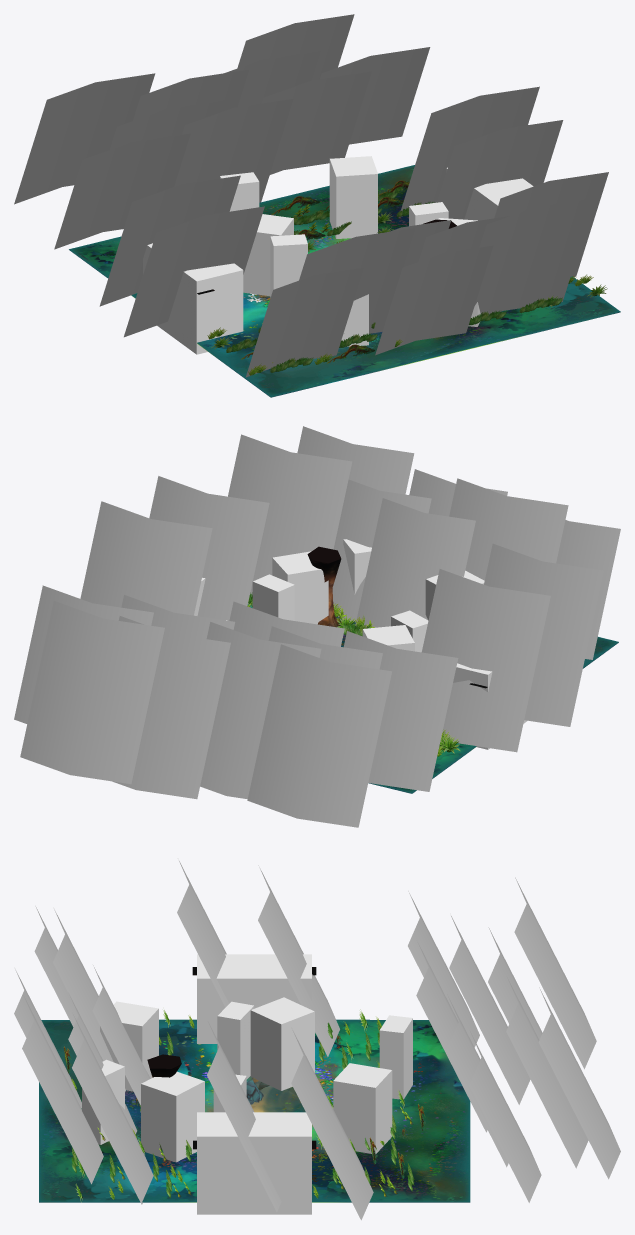
The model's file is FieldDungeon_02_001_Road_I_001.fbx.
The picture shows the model from 3 angles, top to bottom: view 1: azimuth 30°, elevation 25°; view 2: azimuth 150°, elevation 25°; view 3: azimuth 270°, elevation 25°; orthographic projection. The views are drawn at different scales.
Visible parts, largest first — view 1: FieldArea_02_001_tree_2, FieldArea_02_001_tree_1, FieldDungeon_02_001_Door_Right_001, FieldArea_02_001_ground2, FieldDungeon_02_001_Door_Left_001, DoorWay_NavMask (1) (×4), FieldArea_02_001_kusa, Cube_08, Cube_02, FieldDungeon_02_001_Door_Right_001_shadow, Cube_05, Cube_06 (+3 smaller); view 2: FieldArea_02_001_tree_2, FieldArea_02_001_tree_1, FieldDungeon_02_001_Door_Right_001, FieldDungeon_02_001_Door_Left_001, Cube_07, Cube_04, Dungeon_011_Object_010, FieldArea_02_001_kusa, Cube_02, Cube_03, FieldArea_02_001_ground2, Cube_05 (+1 smaller); view 3: FieldArea_02_001_tree_2, FieldArea_02_001_ground2, DoorWay_NavMask (1) (×4), FieldArea_02_001_tree_1, FieldDungeon_02_001_Door_Left_001, FieldDungeon_02_001_Door_Right_001, Cube_02, Cube_07, Cube_08, FieldArea_02_001_kusa, FieldDungeon_02_001_Door_Right_001_shadow, FieldDungeon_02_001_Door_Left_001_shadow (+5 smaller).
Boxes of the visible parts, box(x1,y1,x2,y2) form: FieldArea_02_001_tree_2: box(14, 14, 430, 249); FieldArea_02_001_tree_1: box(245, 172, 608, 377); FieldDungeon_02_001_Door_Right_001: box(99, 175, 264, 337); FieldArea_02_001_ground2: box(69, 165, 620, 396); FieldDungeon_02_001_Door_Left_001: box(399, 86, 563, 219); DoorWay_NavMask (1) (×4): box(143, 167, 533, 354); FieldArea_02_001_kusa: box(207, 180, 607, 375); Cube_08: box(329, 156, 377, 238); Cube_02: box(243, 214, 293, 295); FieldDungeon_02_001_Door_Right_001_shadow: box(132, 292, 270, 372); Cube_05: box(270, 234, 307, 297); Cube_06: box(220, 172, 259, 211); FieldArea_02_001_tree_2: box(14, 585, 458, 827); FieldArea_02_001_tree_1: box(228, 426, 620, 659); FieldDungeon_02_001_Door_Right_001: box(421, 543, 603, 752); FieldDungeon_02_001_Door_Left_001: box(80, 476, 269, 620); Cube_07: box(272, 551, 328, 624); Cube_04: box(252, 574, 294, 620); Dungeon_011_Object_010: box(307, 546, 341, 627); FieldArea_02_001_kusa: box(247, 592, 460, 756); Cube_02: box(362, 625, 414, 651); Cube_03: box(343, 539, 371, 594); FieldArea_02_001_ground2: box(247, 604, 618, 793); Cube_05: box(391, 610, 428, 652); FieldArea_02_001_tree_2: box(408, 877, 620, 1202); FieldArea_02_001_ground2: box(39, 1020, 470, 1202); DoorWay_NavMask (1) (×4): box(197, 954, 311, 1214); FieldArea_02_001_tree_1: box(14, 906, 153, 1204); FieldDungeon_02_001_Door_Left_001: box(207, 1022, 373, 1220); FieldDungeon_02_001_Door_Right_001: box(177, 861, 339, 1056); Cube_02: box(250, 997, 314, 1090); Cube_07: box(141, 1071, 204, 1162); Cube_08: box(333, 1063, 392, 1153); FieldArea_02_001_kusa: box(63, 1009, 425, 1202); FieldDungeon_02_001_Door_Right_001_shadow: box(159, 1019, 369, 1079); FieldDungeon_02_001_Door_Left_001_shadow: box(144, 1152, 377, 1201).
Size of what is drawn, in the model's own units: 18.73 by 5.99 by 21.11.
